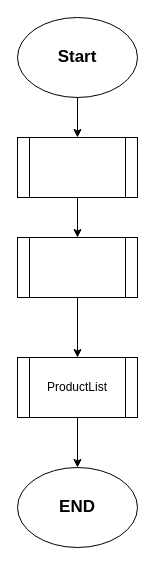
Image size: 155x565. Some labels were removed from this diagram. Here are the shapes that lost their labels. From the top down, the box of each, then its label:
(16, 136, 138, 198): BreadCrumbs
(16, 236, 138, 298): Filter
